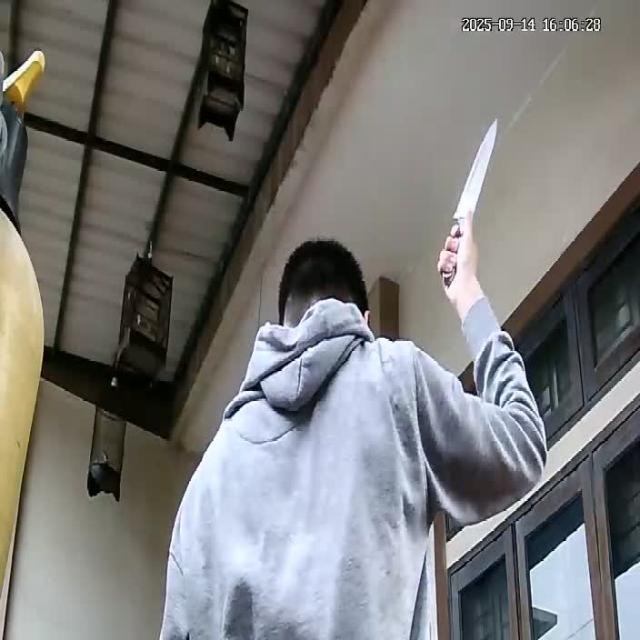senjata_tajam: (452, 115, 500, 226)
